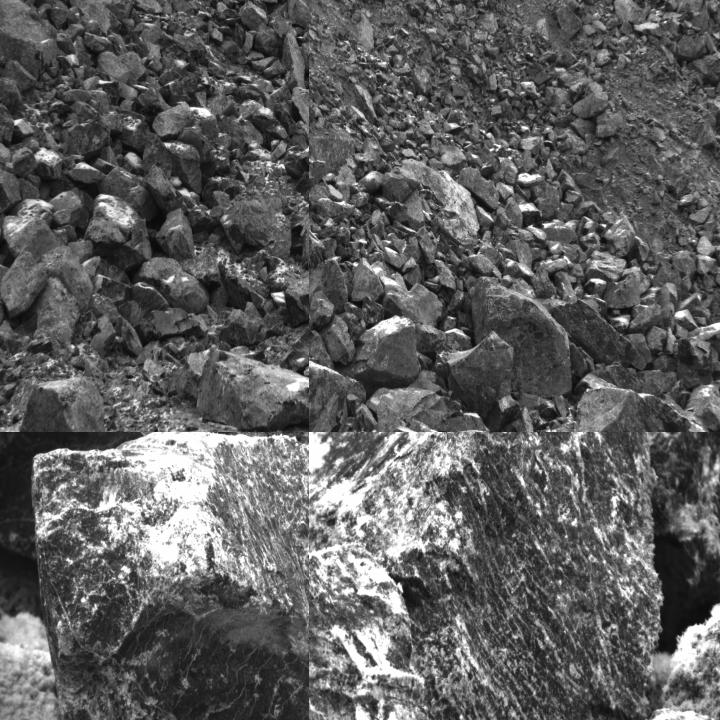stone: (309, 432, 656, 719), (32, 432, 308, 719), (106, 432, 308, 712), (572, 432, 719, 605), (473, 277, 573, 398), (195, 348, 308, 431), (687, 485, 719, 719), (436, 339, 518, 426), (549, 298, 640, 366), (347, 314, 418, 397), (566, 386, 696, 431), (84, 195, 152, 278), (223, 182, 294, 261), (16, 378, 109, 431), (0, 0, 58, 77), (133, 258, 209, 314), (380, 272, 448, 328), (39, 246, 93, 311), (99, 165, 156, 225), (0, 249, 48, 319), (34, 277, 80, 345), (3, 214, 62, 261), (63, 100, 110, 158), (163, 138, 202, 198), (309, 258, 350, 312), (143, 165, 188, 214), (215, 302, 263, 347), (415, 323, 474, 359), (154, 209, 194, 262), (676, 337, 715, 389), (458, 168, 500, 214), (323, 314, 357, 366), (114, 104, 150, 151), (152, 101, 194, 139), (282, 27, 306, 92), (351, 258, 386, 302), (602, 270, 640, 310), (603, 213, 635, 259), (279, 326, 308, 374), (133, 86, 172, 121), (47, 191, 84, 227), (686, 378, 719, 418), (382, 170, 422, 202), (560, 61, 592, 100), (285, 270, 308, 324), (688, 319, 719, 359), (144, 133, 171, 177), (0, 170, 23, 220), (628, 303, 665, 334), (572, 90, 608, 120), (97, 52, 135, 80), (309, 292, 335, 330), (438, 144, 468, 176), (37, 144, 63, 180), (239, 0, 270, 30), (253, 23, 280, 57), (554, 5, 581, 39), (672, 251, 698, 284), (613, 0, 647, 25), (546, 85, 574, 115), (596, 108, 623, 138), (292, 86, 308, 134), (0, 99, 16, 144), (294, 170, 308, 218), (298, 208, 308, 273), (287, 0, 308, 29), (358, 171, 385, 193), (571, 118, 596, 138), (672, 0, 704, 14), (0, 255, 11, 293), (0, 136, 12, 166)
